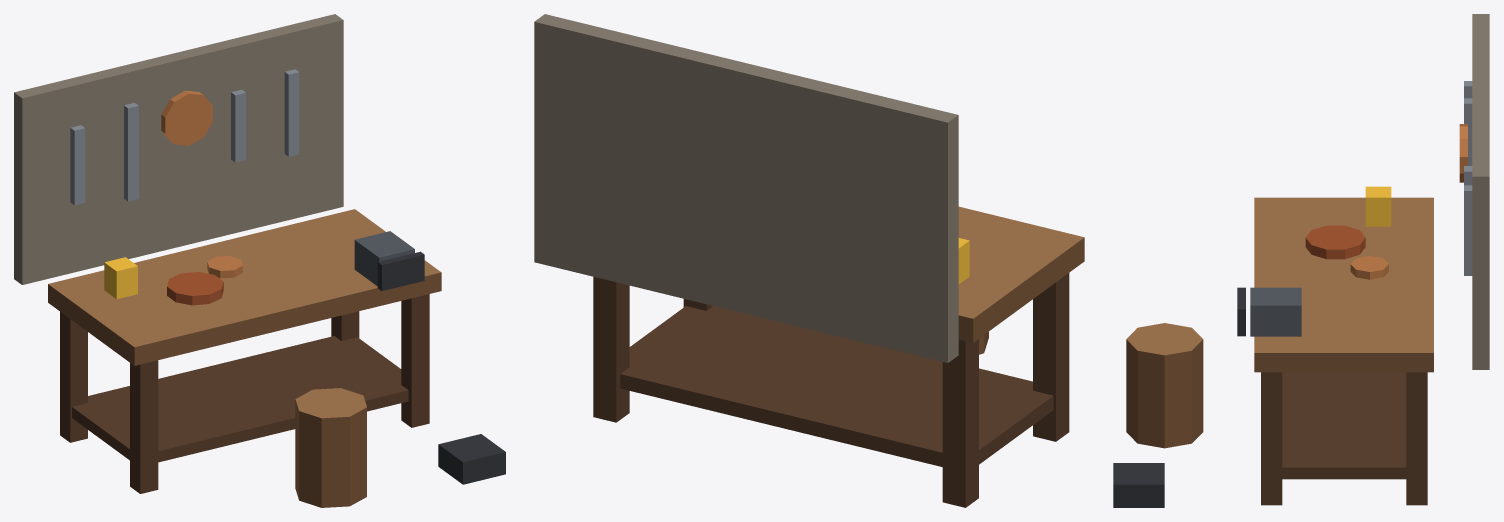
File: bld_tinker_bench_1x1.glb
3 renders of one model, left to right at view 1: azimuth 30°, elevation 25°; view 2: azimuth 150°, elevation 25°; view 3: azimuth 270°, elevation 25°, orthographic. The views are drawn at different scales.
Parts seen in each view (by area): view 1: bld_tinker_bench_1x12; view 2: bld_tinker_bench_1x12; view 3: bld_tinker_bench_1x12.
Part boxes in pixels (<box>): bld_tinker_bench_1x12: <box>14,14,505,507</box>; bld_tinker_bench_1x12: <box>534,14,1084,507</box>; bld_tinker_bench_1x12: <box>1113,14,1489,507</box>.
Size of the model in its own units: 0.9 by 0.87 by 0.88.
1 material, 1 textured.
